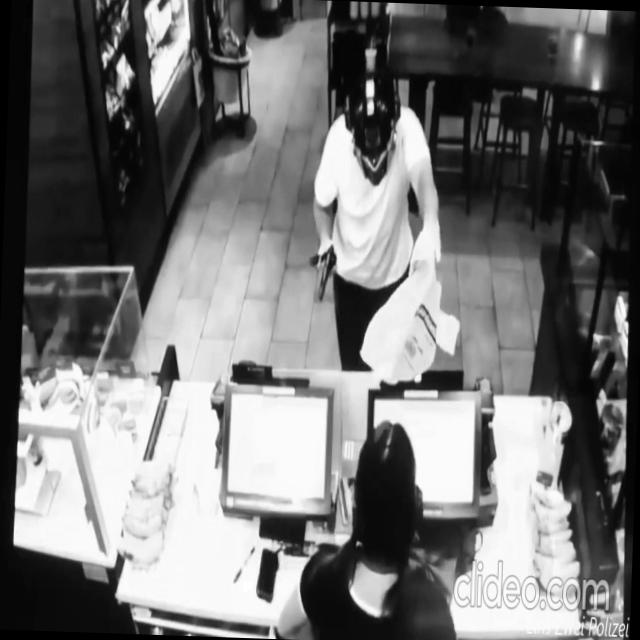gun: (314, 242, 338, 308)
person: (271, 411, 466, 640)
person with a gun: (304, 63, 446, 371)
